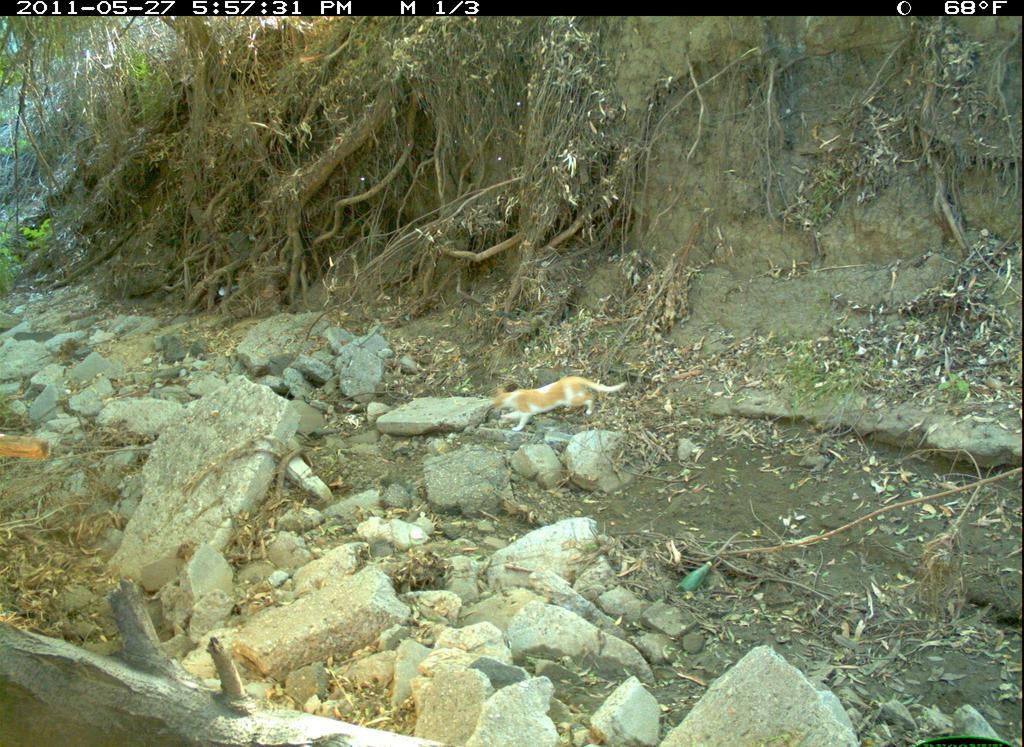cat: (491, 374, 632, 432)
